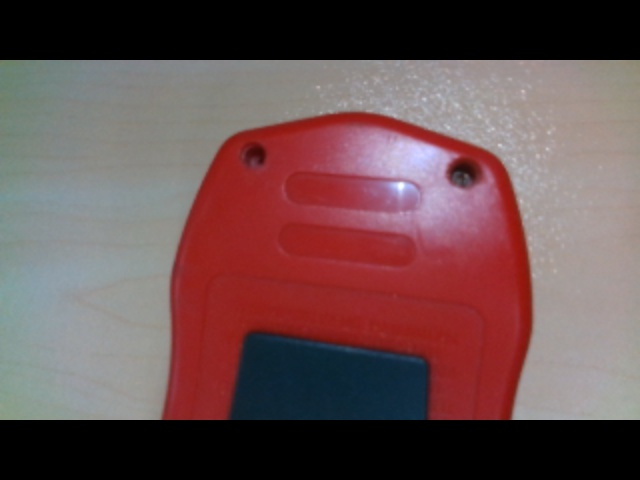Screw holes: (445, 154, 483, 193), (239, 142, 267, 168)
